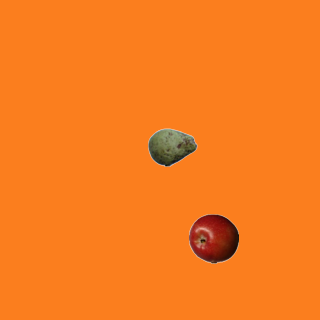Apple Braeburn: (188, 213, 238, 263)
Pear Stone: (147, 122, 197, 172)
